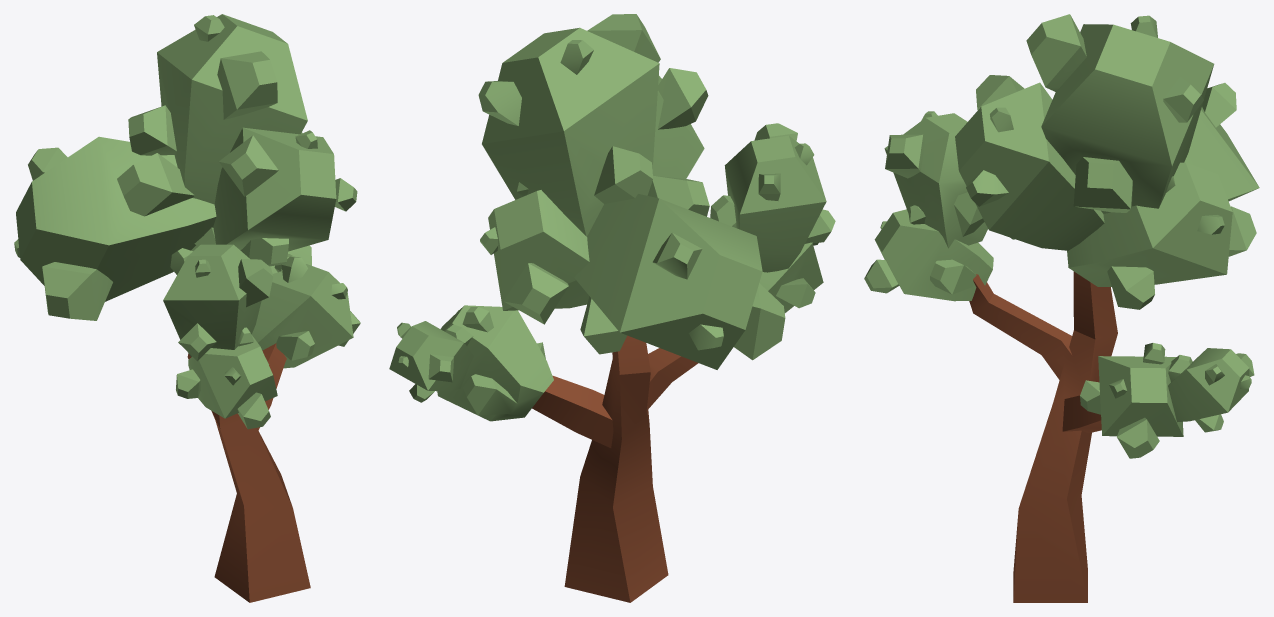
File: Arbol.obj
3 views of the same model, side by side, from view 1: azimuth 30°, elevation 25°; view 2: azimuth 150°, elevation 25°; view 3: azimuth 270°, elevation 25° (orthographic). The views are drawn at different scales.
Visible parts, largest first — view 1: Mesh; view 2: Mesh; view 3: Mesh.
Boxes of the visible parts, bbox=[...] form: Mesh: bbox=[14, 14, 360, 602]; Mesh: bbox=[389, 14, 835, 602]; Mesh: bbox=[864, 14, 1259, 602].
Bounding box in the file's own units: 10.59 × 16.73 × 10.6.
2 materials, 2 textured.
